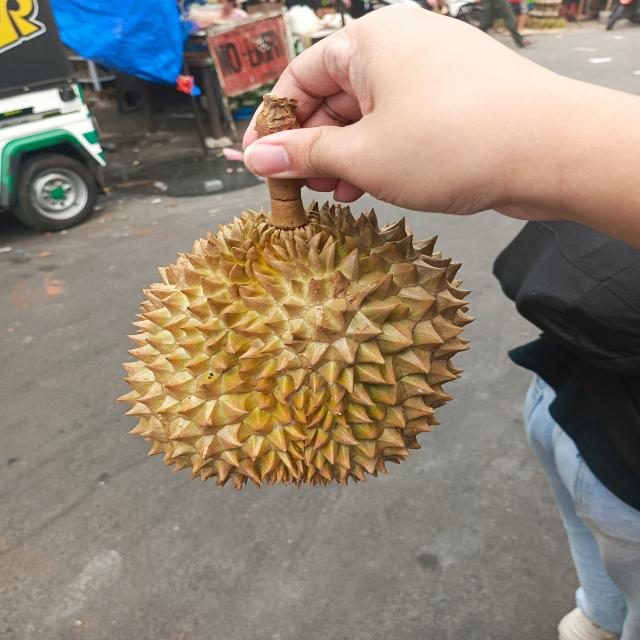mature: (119, 192, 473, 486)
